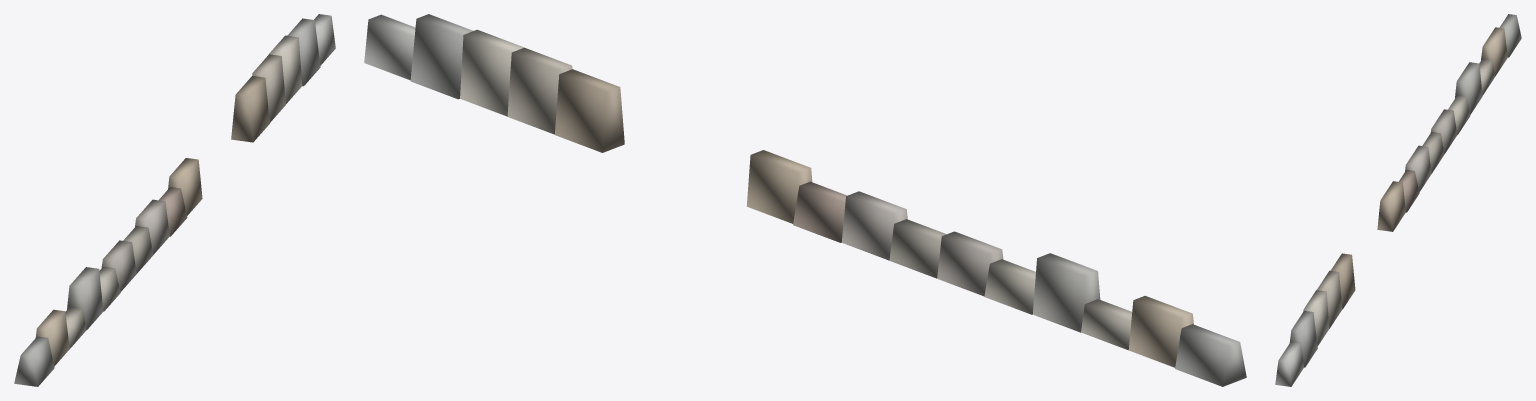
The model's file is farm_14_6_collision.glb.
The picture shows the model from 3 angles, left to right: view 1: azimuth 90°, elevation 25°; view 2: azimuth 150°, elevation 25°; view 3: azimuth 270°, elevation 25°; orthographic projection. The views are drawn at different scales.
Parts seen in each view (by area): view 1: geometry_0; view 2: geometry_0; view 3: geometry_0.
Part boxes in pixels (box(x1,y1,x2,y2)): geometry_0: box(14, 14, 335, 386); geometry_0: box(364, 14, 1246, 386); geometry_0: box(1275, 14, 1521, 386).
Size of the model in its own units: 27.23 by 2.94 by 9.26.
